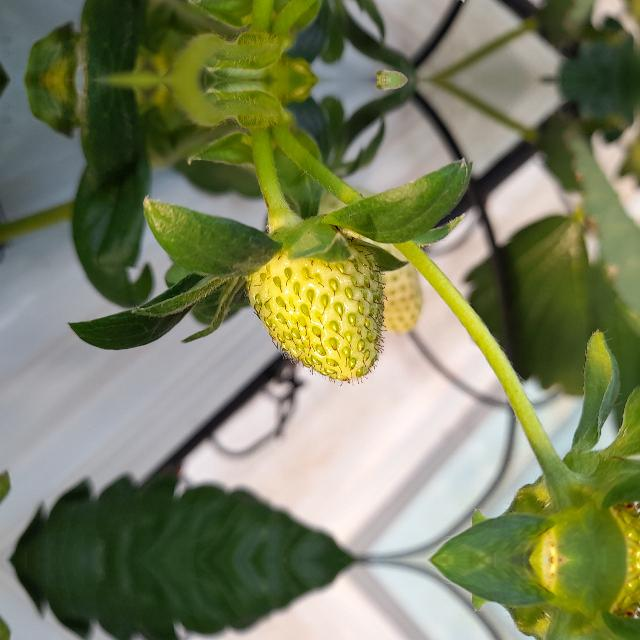Health_25: (243, 242, 387, 386)
